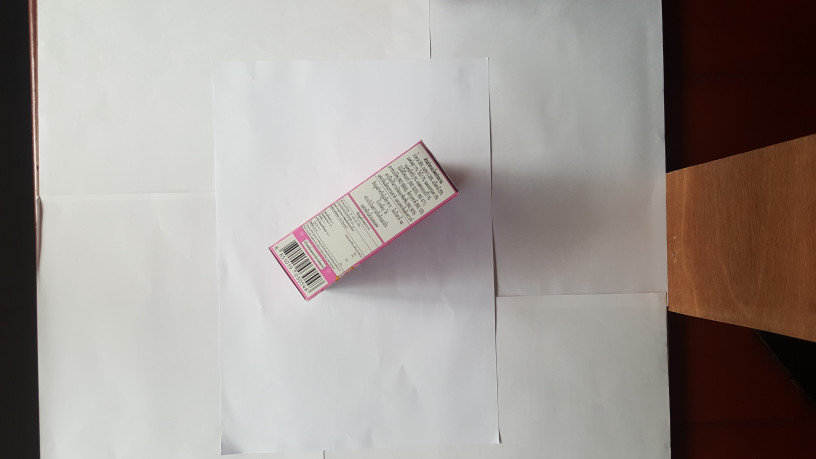collon-strawberry: (268, 138, 458, 303)
